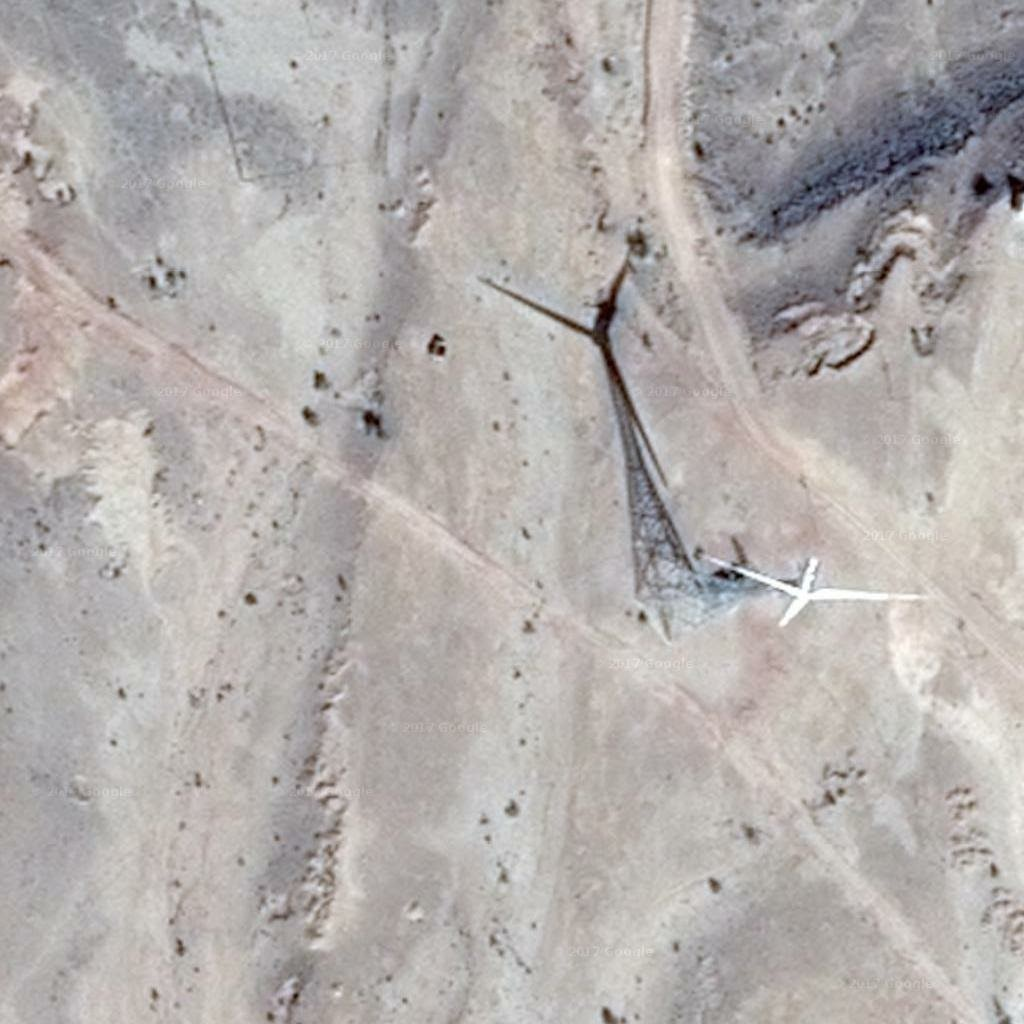Windmill: (477, 235, 738, 629)
